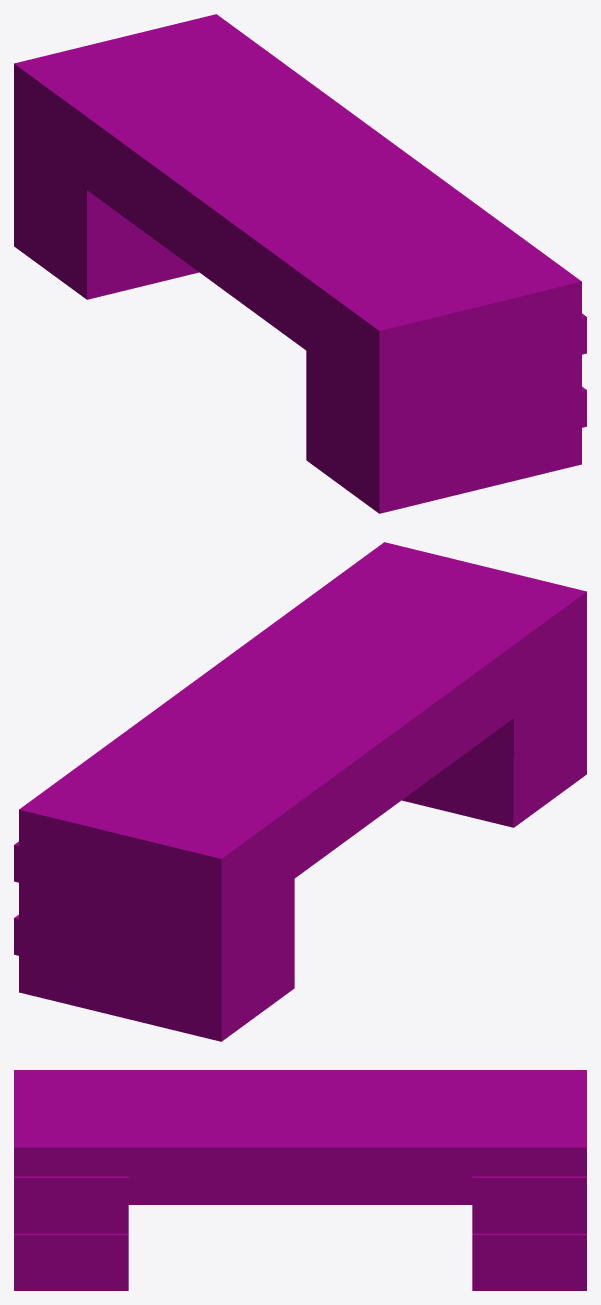
Rendered from Elfhut_Desk.fbx.
The picture shows the model from 3 angles, top to bottom: view 1: azimuth 30°, elevation 25°; view 2: azimuth 150°, elevation 25°; view 3: azimuth 270°, elevation 25°; orthographic projection. The views are drawn at different scales.
Visible parts, largest first — view 1: Desk; view 2: Desk; view 3: Desk.
Boxes of the visible parts, left/top/right/bottom form: Desk: left=14, top=14, right=586, bottom=513; Desk: left=14, top=542, right=586, bottom=1041; Desk: left=14, top=1070, right=586, bottom=1290.
Size of the model in its own units: 8.2 by 6.9 by 25.
